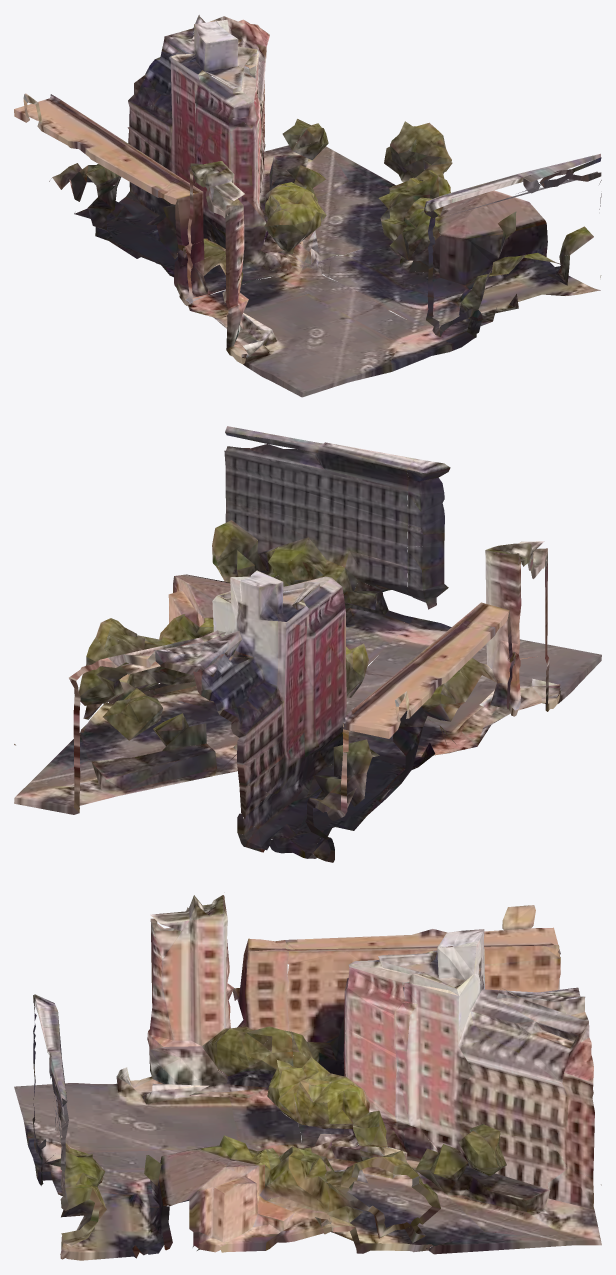
The picture shows the model from 3 angles, top to bottom: view 1: azimuth 30°, elevation 25°; view 2: azimuth 150°, elevation 25°; view 3: azimuth 270°, elevation 25°; orthographic projection. The views are drawn at different scales.
Parts seen in each view (by area): view 1: Mesh_0; view 2: Mesh_0; view 3: Mesh_0.
Boxes of the visible parts, x1,y1,x2,y2 form: Mesh_0: (14, 14, 601, 397); Mesh_0: (14, 426, 601, 862); Mesh_0: (14, 895, 601, 1260).
Size of the model in its own units: 66.57 by 35.17 by 82.53.
Materials: 2 (2 with a texture image).
